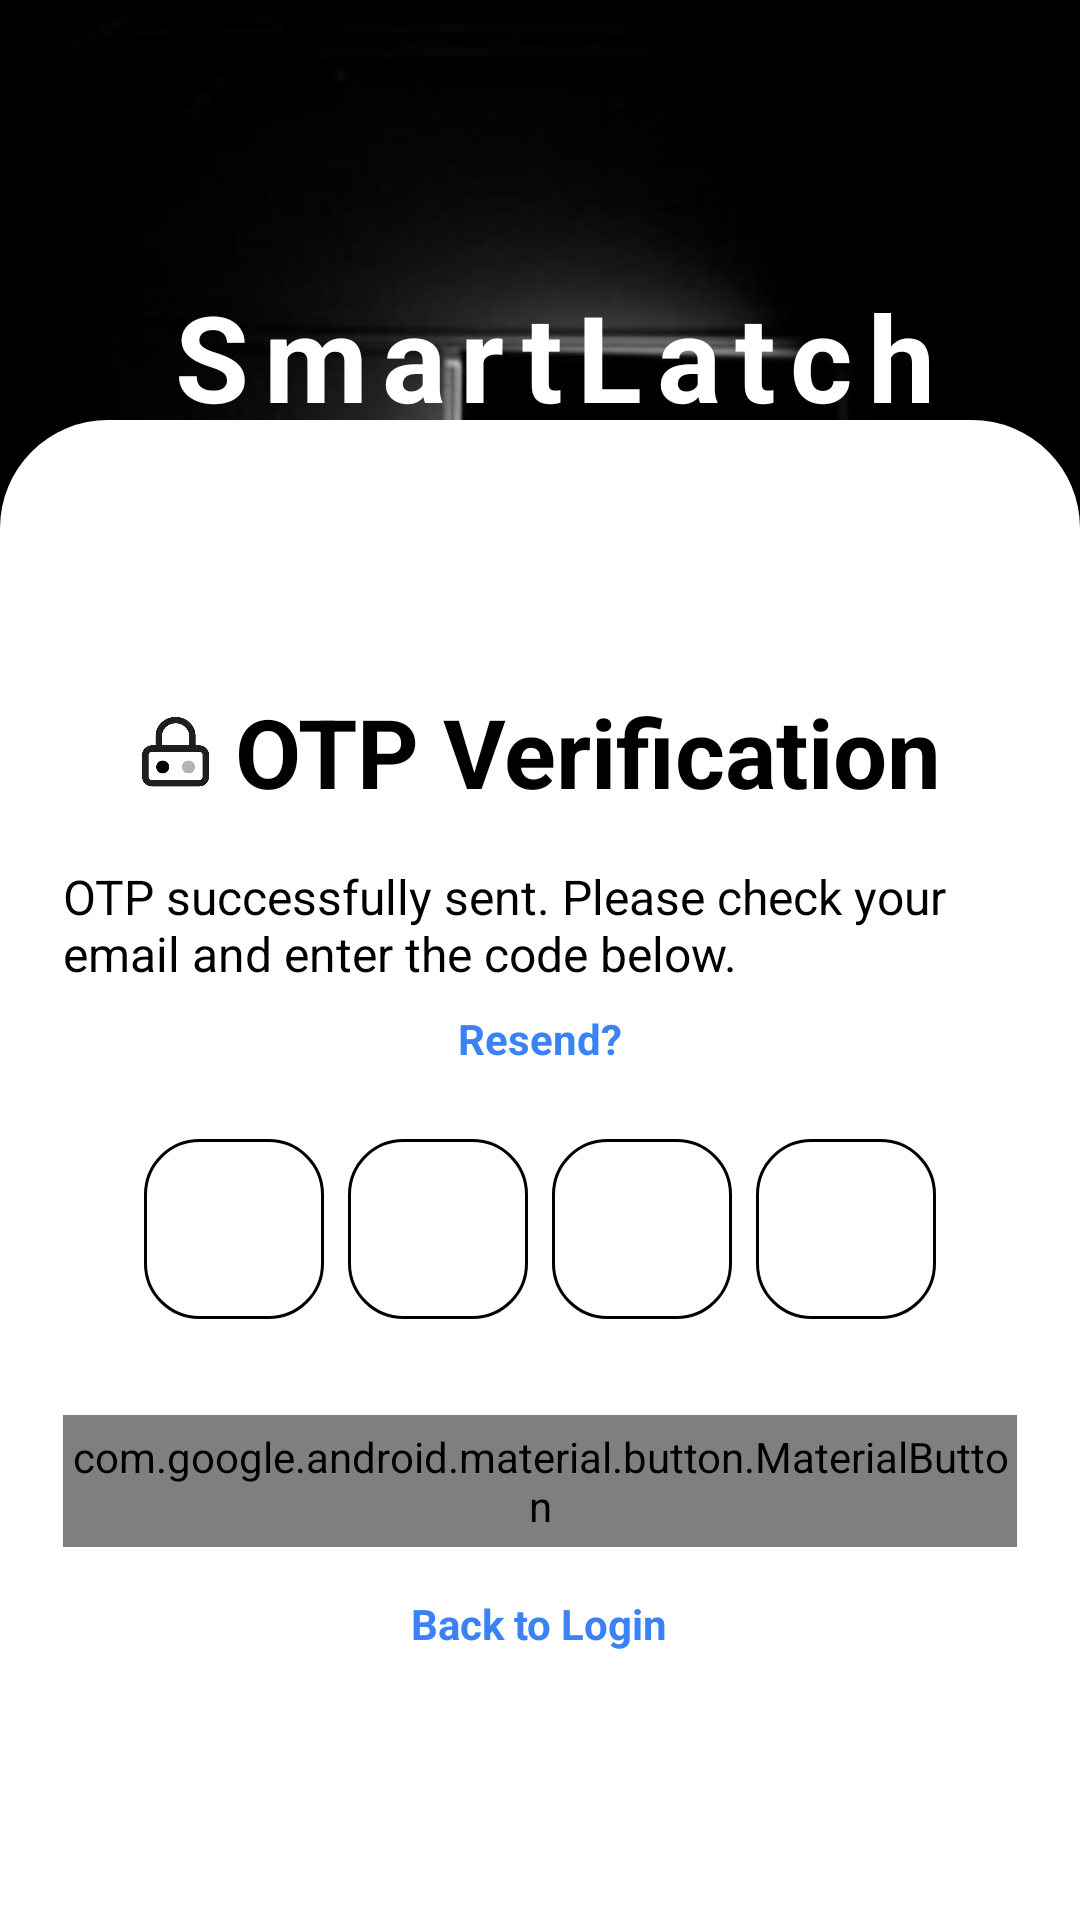

Icons on this 1080px x 1920px Android screen, each with the point to tap as point (x, y):
Lock icon: point (175, 752)
